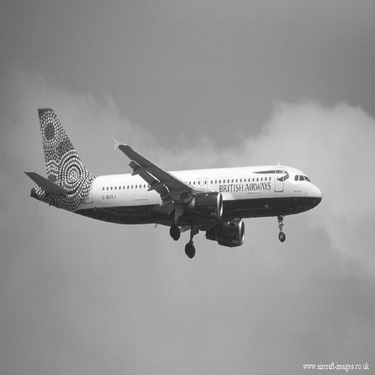airplane: (15, 85, 327, 255)
